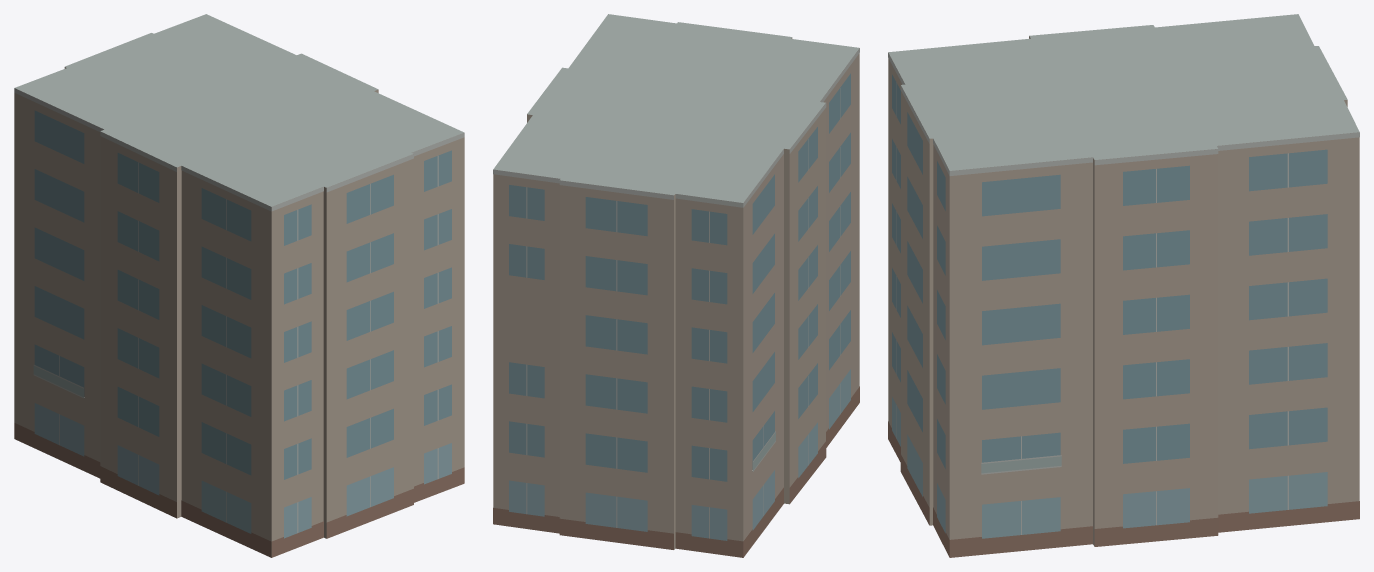
File: survey-upis-32905677.glb
3 views of the same model, side by side, from view 1: azimuth 30°, elevation 25°; view 2: azimuth 150°, elevation 25°; view 3: azimuth 270°, elevation 25° (orthographic). The views are drawn at different scales.
Parts seen in each view (by area): view 1: survey-upis-32905677.tmp; view 2: survey-upis-32905677.tmp; view 3: survey-upis-32905677.tmp.
Part boxes in pixels (x1=…): survey-upis-32905677.tmp: x1=14, y1=14, x2=464, y2=557; survey-upis-32905677.tmp: x1=493, y1=14, x2=859, y2=557; survey-upis-32905677.tmp: x1=888, y1=14, x2=1359, y2=557.
Bounding box in the file's own units: 15.89 × 18.25 × 20.17.
